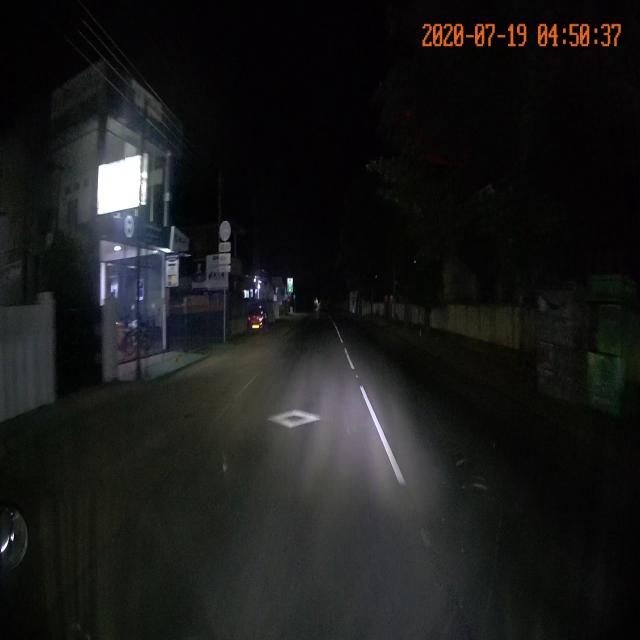Romb: (265, 409, 325, 429)
